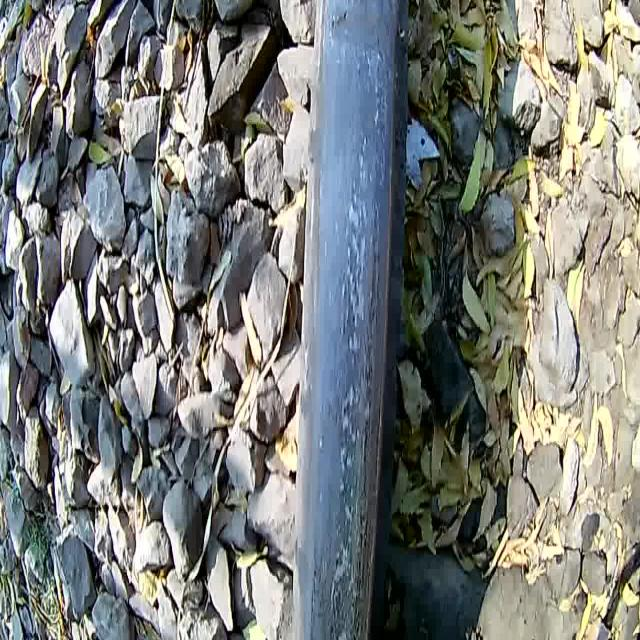Squats: (277, 0, 423, 640)
